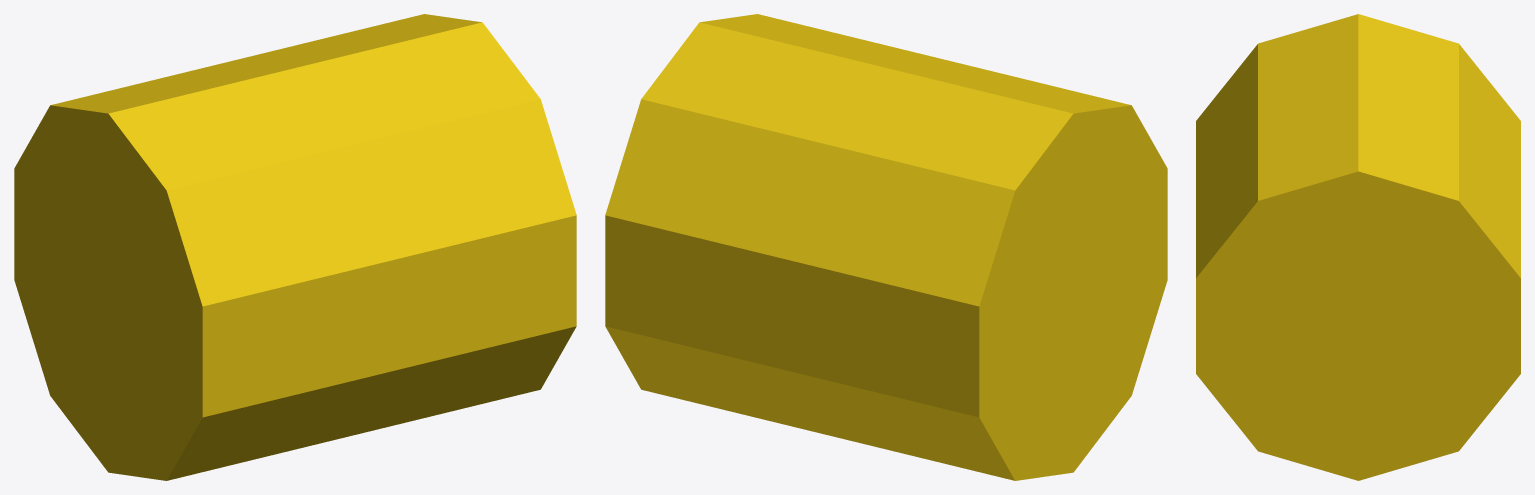
The model's file is hay.FBX.
3 views of the same model, side by side, from view 1: azimuth 30°, elevation 25°; view 2: azimuth 150°, elevation 25°; view 3: azimuth 270°, elevation 25° (orthographic). The views are drawn at different scales.
Visible parts, largest first — view 1: hay; view 2: hay; view 3: hay.
Boxes of the visible parts, x1,y1,x2,y2 form: hay: [14, 14, 576, 480]; hay: [605, 14, 1167, 480]; hay: [1196, 14, 1520, 480].
Bounding box in the file's own units: 10.27 × 9.42 × 8.96.
